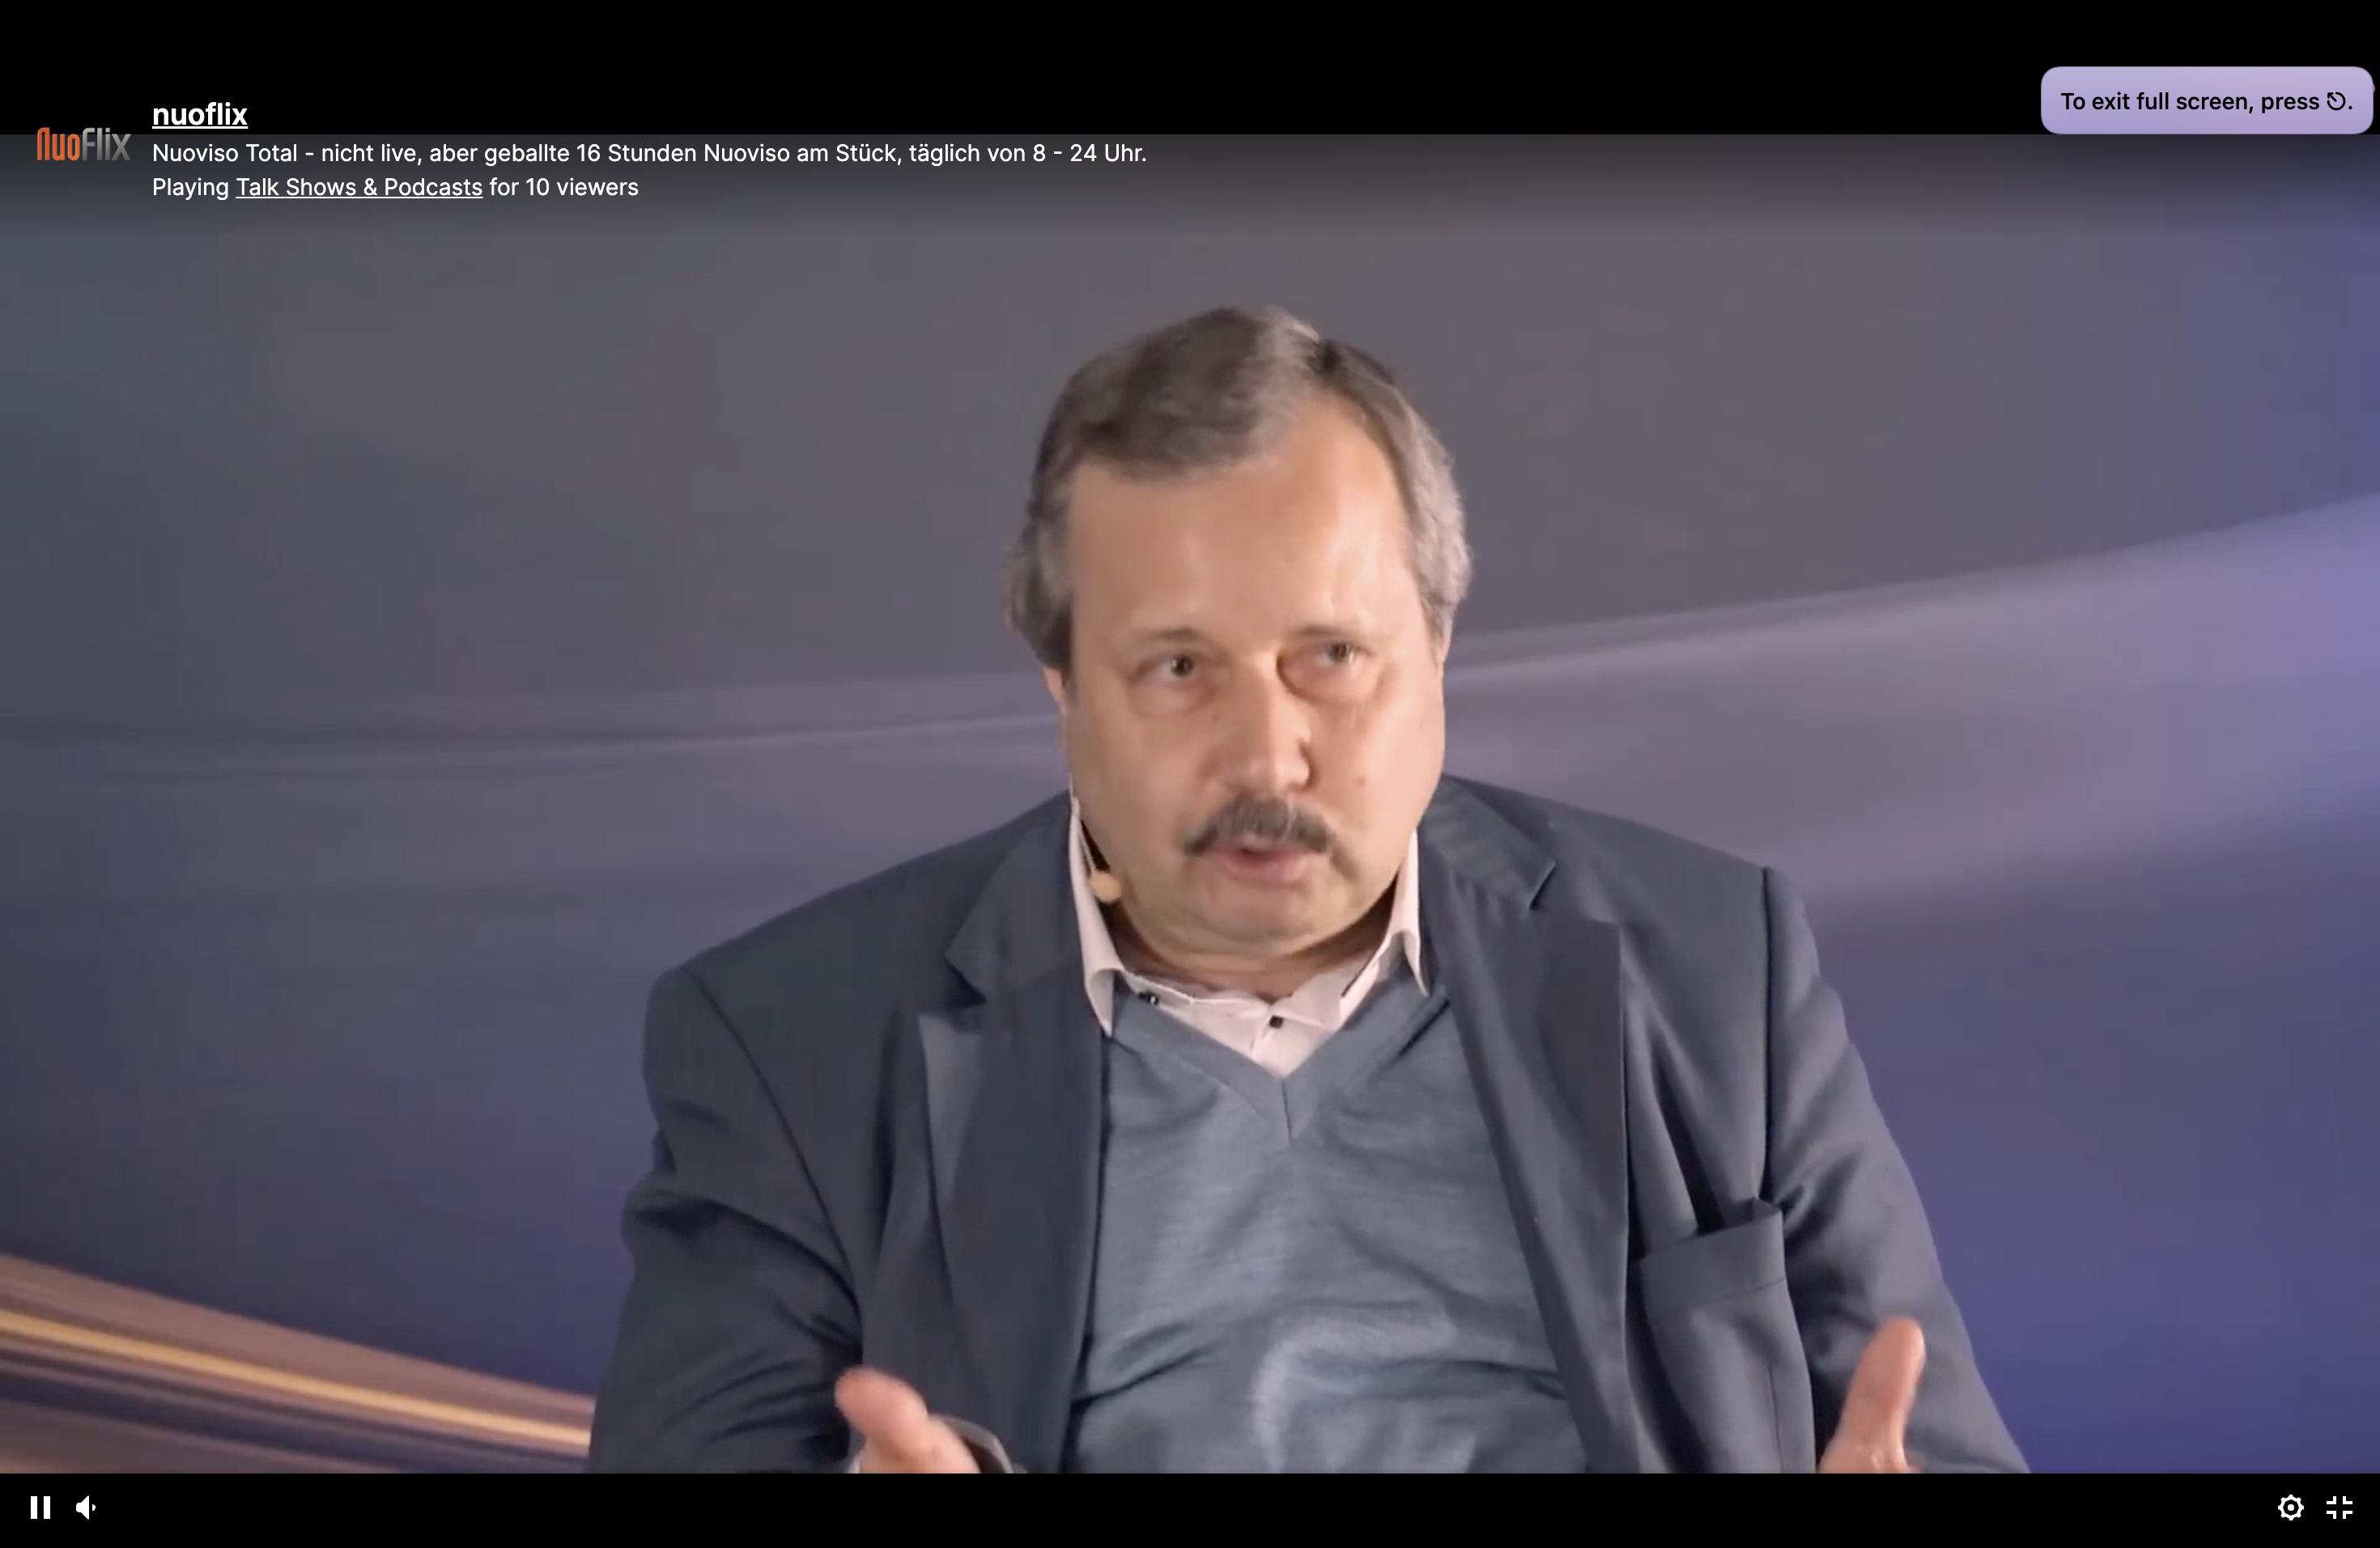person: (582, 300, 2033, 1477)
